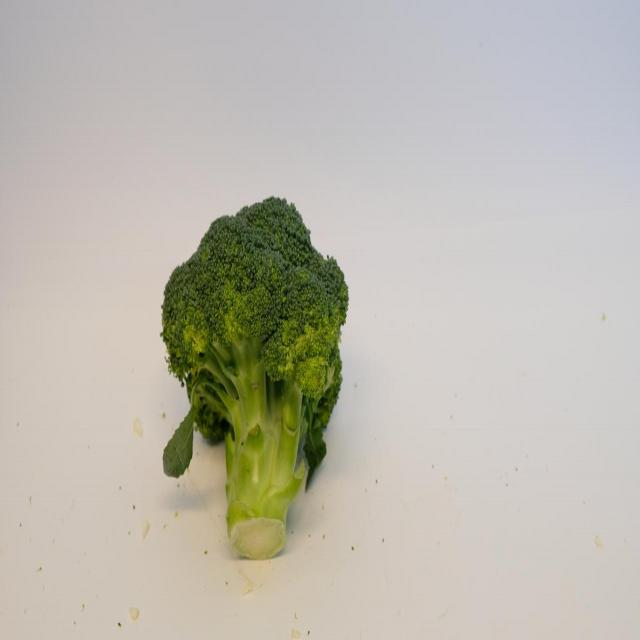broccoli: (158, 187, 346, 578)
